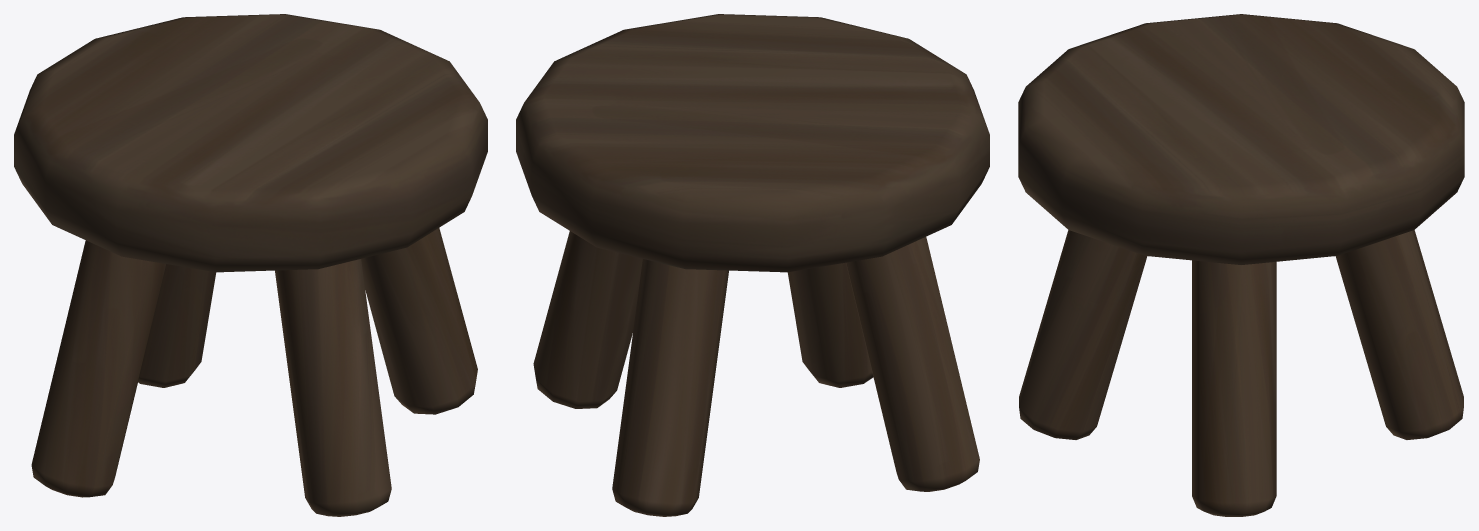
The model's file is Stool.obj.
The picture shows the model from 3 angles, left to right: view 1: azimuth 30°, elevation 25°; view 2: azimuth 150°, elevation 25°; view 3: azimuth 270°, elevation 25°; orthographic projection. The views are drawn at different scales.
Visible parts, largest first — view 1: Stool_TopSG, Stool_LegSG; view 2: Stool_TopSG, Stool_LegSG; view 3: Stool_TopSG, Stool_LegSG.
Part boxes in pixels (x1=…): Stool_TopSG: x1=14, y1=14, x2=487, y2=272; Stool_LegSG: x1=31, y1=228, x2=477, y2=516; Stool_TopSG: x1=516, y1=14, x2=989, y2=272; Stool_LegSG: x1=533, y1=231, x2=979, y2=516; Stool_TopSG: x1=1018, y1=14, x2=1464, y2=264; Stool_LegSG: x1=1019, y1=230, x2=1463, y2=516.
Bounding box in the file's own units: 3.85 × 2.91 × 3.56.
2 materials, 2 textured.
